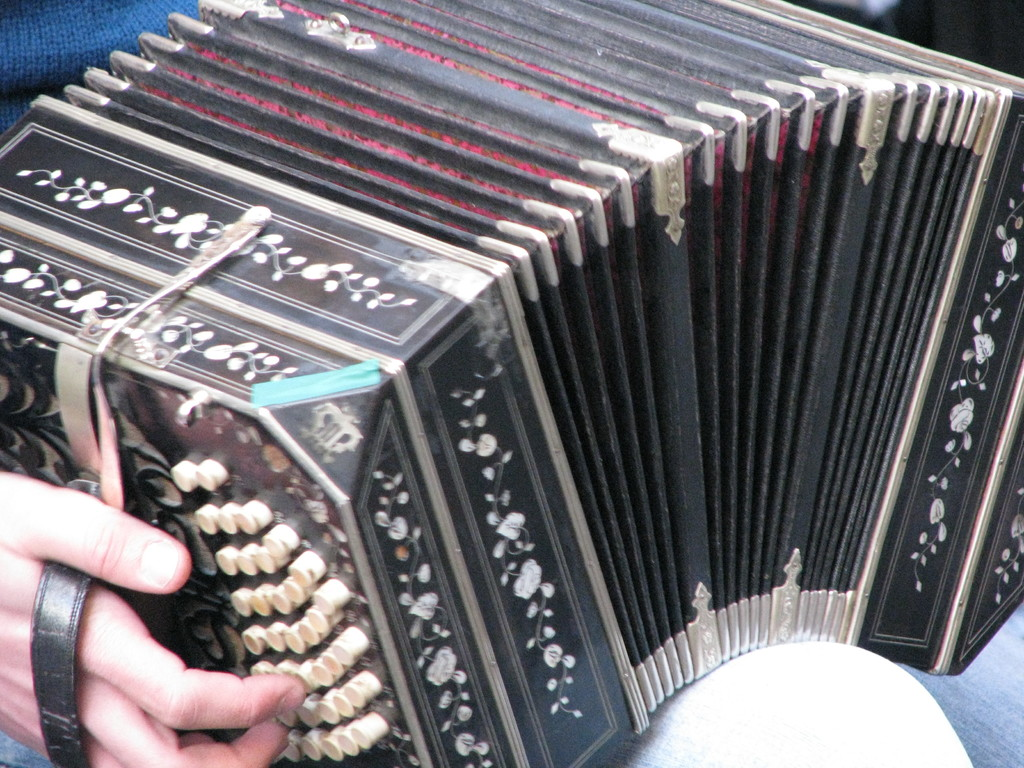Human_hand: (0, 470, 307, 768)
